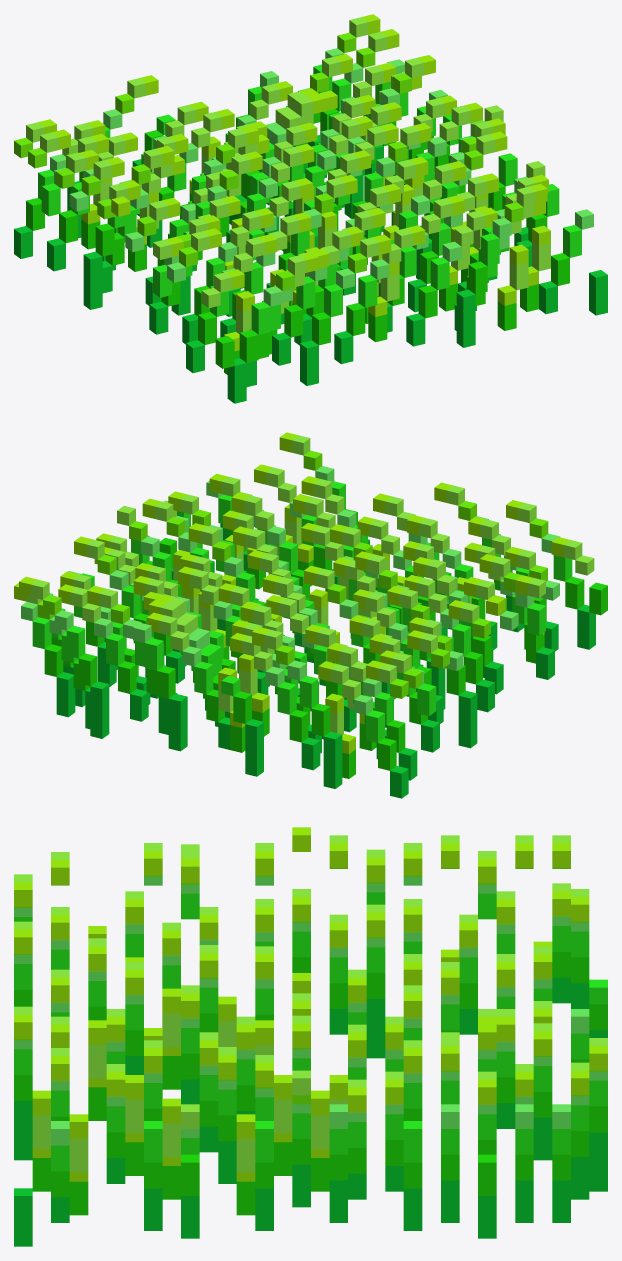
Rendered from grass3.obj.
The picture shows the model from 3 angles, top to bottom: view 1: azimuth 30°, elevation 25°; view 2: azimuth 150°, elevation 25°; view 3: azimuth 270°, elevation 25°; orthographic projection. The views are drawn at different scales.
Bounding box in the file's own units: 3.2 × 1.1 × 3.2.
1 material, 1 textured.
